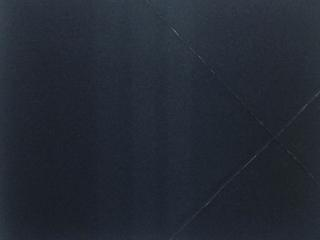crack: (143, 0, 320, 186), (172, 91, 319, 240)
